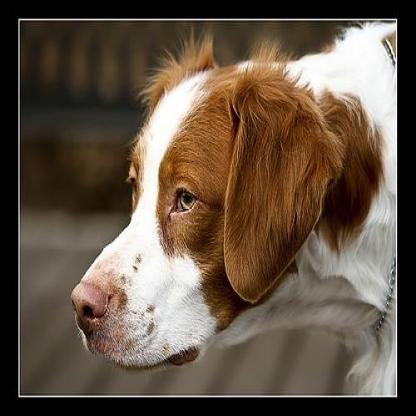Brittany_spaniel: (69, 20, 395, 394)
